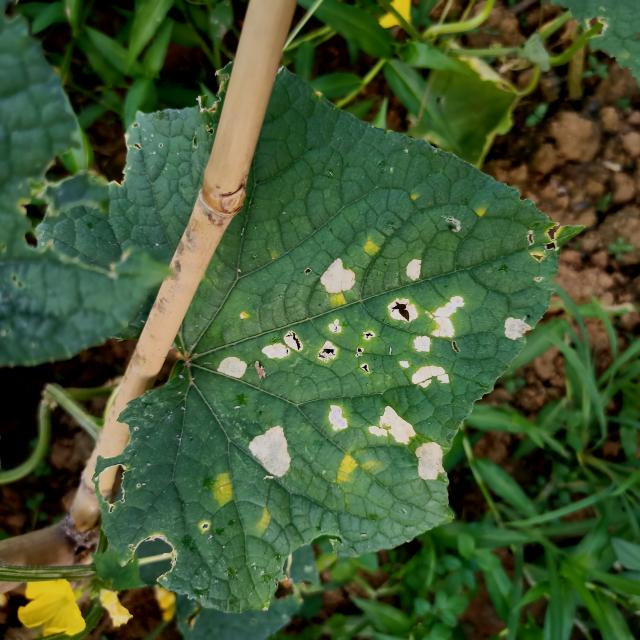disease_cucumber: (212, 242, 473, 390), (368, 397, 451, 479), (243, 418, 300, 485), (488, 303, 541, 342), (205, 466, 241, 509), (327, 449, 364, 487), (318, 394, 354, 432), (250, 502, 279, 536), (358, 234, 386, 260)
